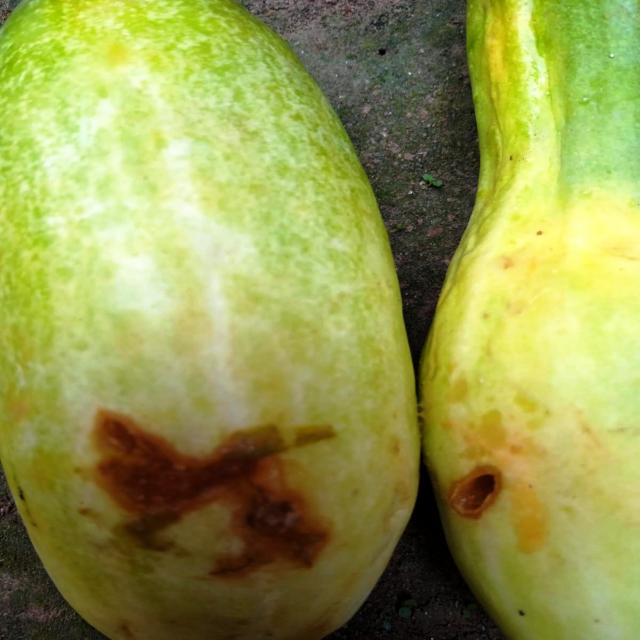Belly-Rot: (84, 395, 344, 594), (444, 453, 509, 531)
